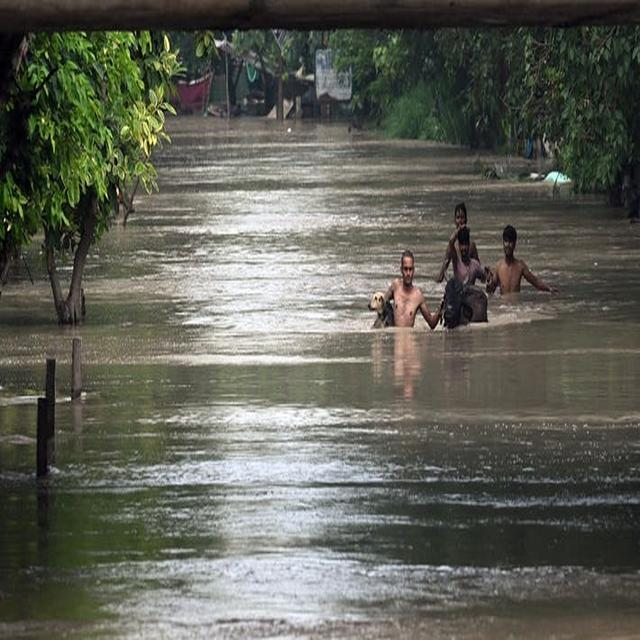Person-RiskLevel3: (361, 248, 444, 336), (434, 196, 490, 296), (485, 228, 552, 305)
